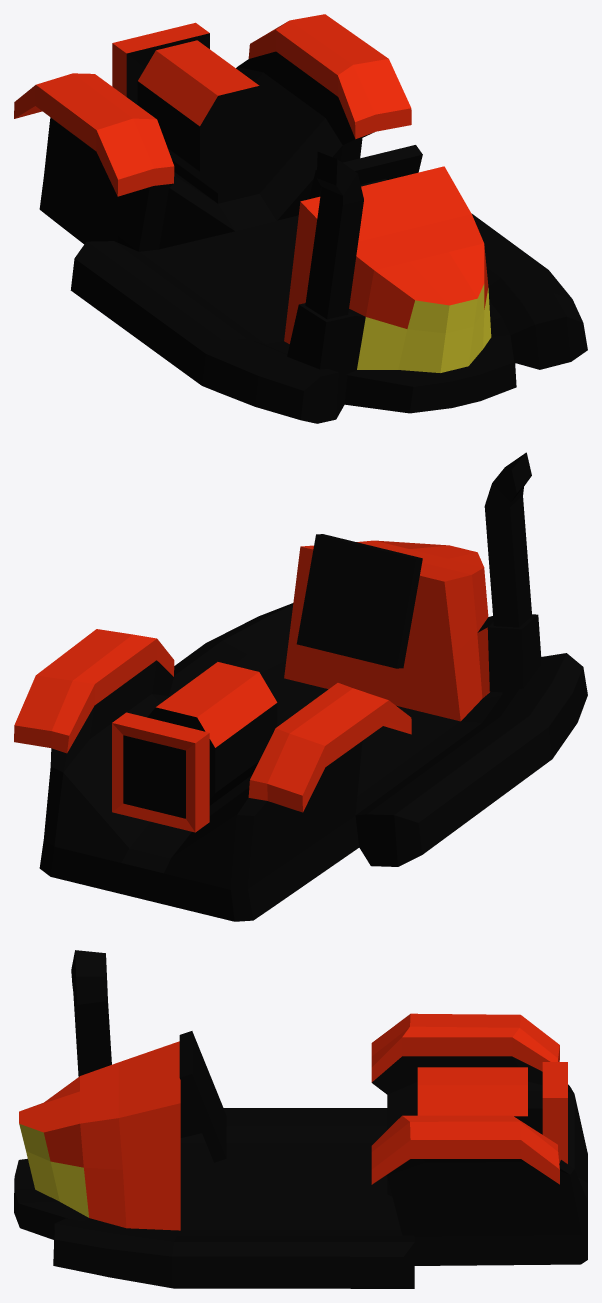
Rendered from Tractor_Water.fbx.
The picture shows the model from 3 angles, top to bottom: view 1: azimuth 30°, elevation 25°; view 2: azimuth 150°, elevation 25°; view 3: azimuth 270°, elevation 25°; orthographic projection. The views are drawn at different scales.
Visible parts, largest first — view 1: Tractor_Water; view 2: Tractor_Water; view 3: Tractor_Water.
Boxes of the visible parts, x1,y1,x2,y2 form: Tractor_Water: (14, 14, 587, 423); Tractor_Water: (14, 452, 587, 921); Tractor_Water: (14, 950, 587, 1288).
Bounding box in the file's own units: 92.02 × 147 × 66.37.
